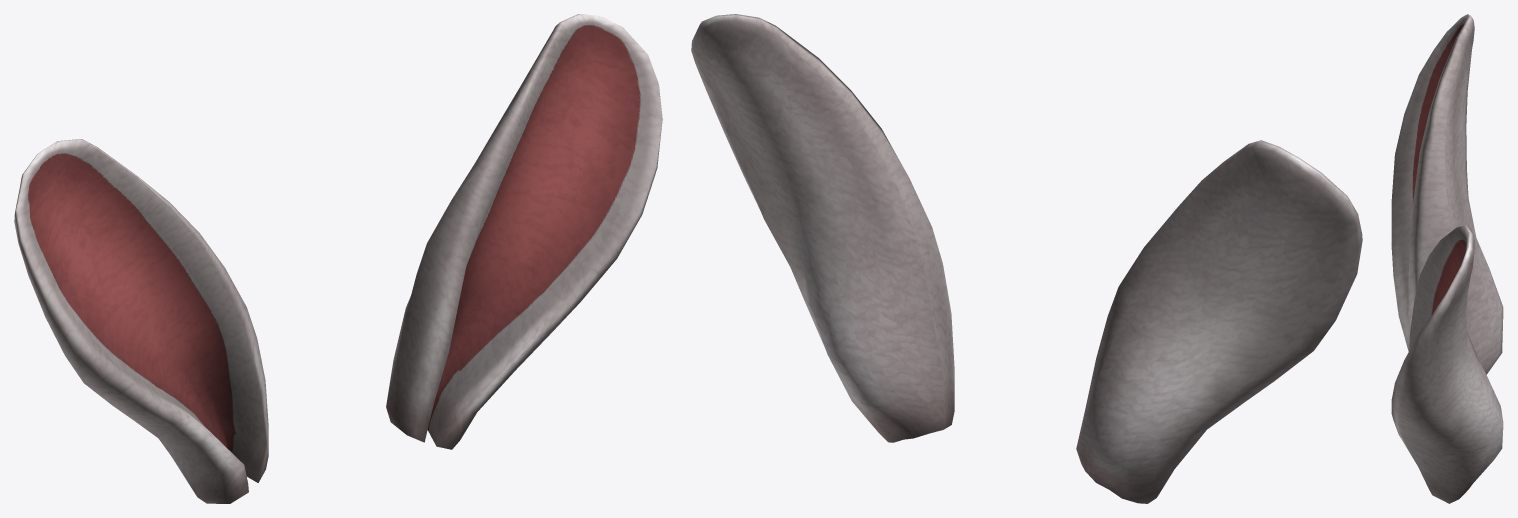
Rendered from Bunny_ear.fbx.
The picture shows the model from 3 angles, left to right: view 1: azimuth 30°, elevation 25°; view 2: azimuth 150°, elevation 25°; view 3: azimuth 270°, elevation 25°; orthographic projection. The views are drawn at different scales.
Visible parts, largest first — view 1: Bunny_ear; view 2: Bunny_ear; view 3: Bunny_ear.
Part boxes in pixels (left/top/right/bottom): Bunny_ear: left=14, top=14, right=662, bottom=503; Bunny_ear: left=691, top=14, right=1362, bottom=503; Bunny_ear: left=1391, top=14, right=1503, bottom=503.
Size of the model in its own units: 1.63 by 0.9409 by 0.2912.
